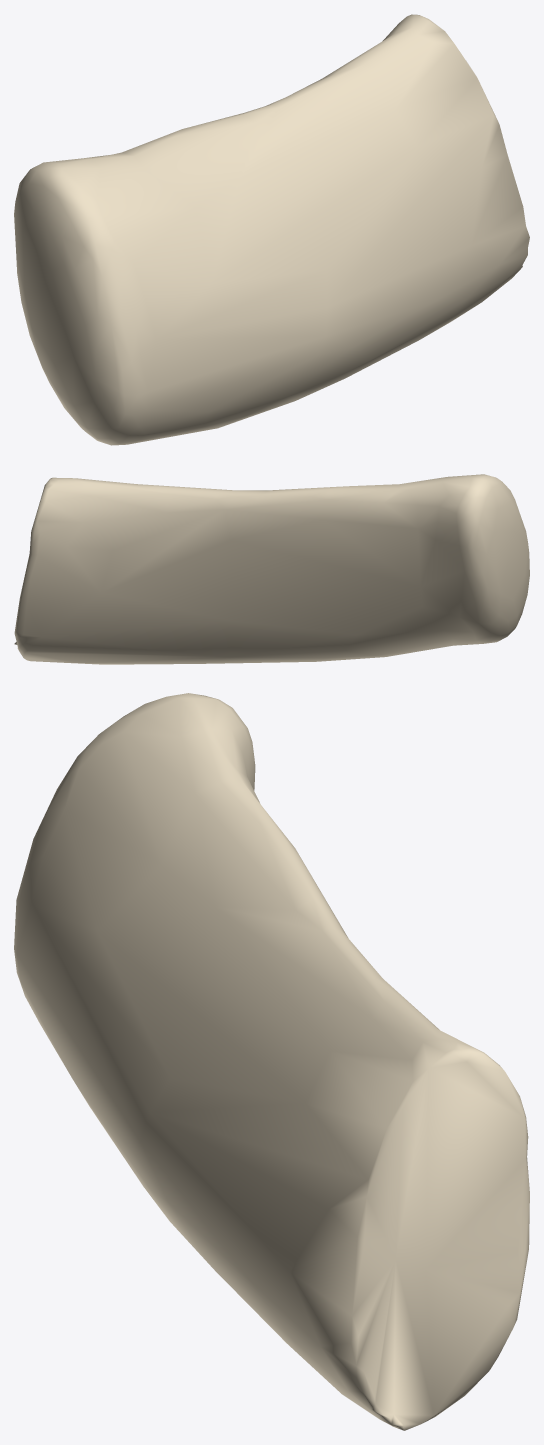
The model's file is costal-cartilage-of-third-rib-l.glb.
3 views of the same model, one above another, from view 1: azimuth 30°, elevation 25°; view 2: azimuth 150°, elevation 25°; view 3: azimuth 270°, elevation 25° (orthographic). The views are drawn at different scales.
Visible parts, largest first — view 1: Costal cartilage of third rib.l; view 2: Costal cartilage of third rib.l; view 3: Costal cartilage of third rib.l.
Boxes of the visible parts, x1,y1,x2,y2 form: Costal cartilage of third rib.l: [14, 14, 529, 445]; Costal cartilage of third rib.l: [14, 474, 529, 664]; Costal cartilage of third rib.l: [14, 693, 529, 1430].
Size of the model in its own units: 0.0375 by 0.0195 by 0.0224.
